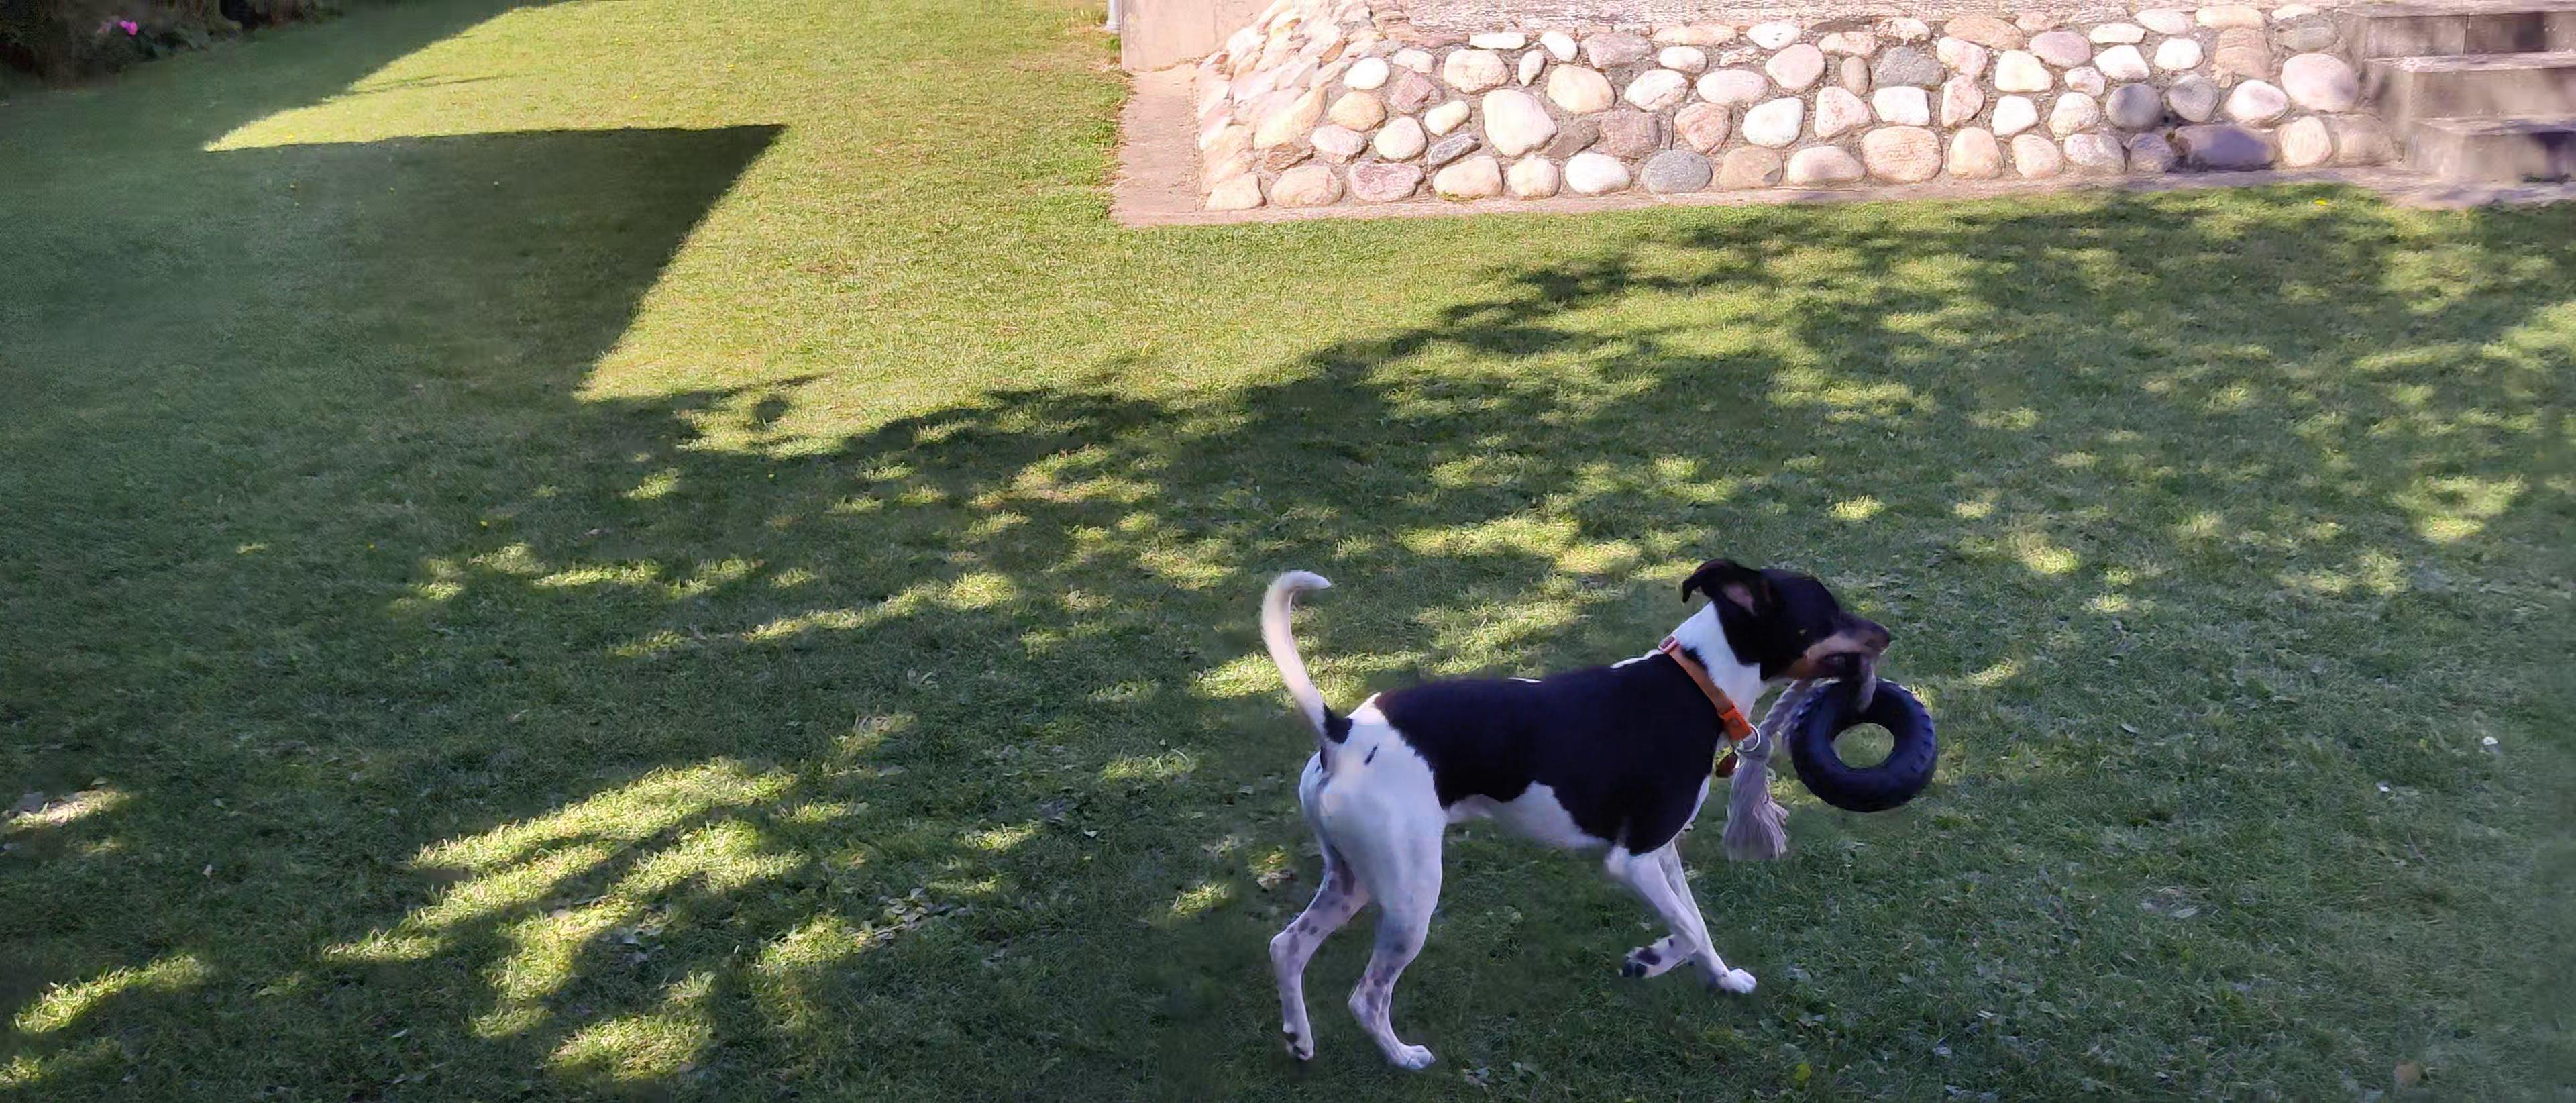Dog: (1235, 510, 1920, 1078)
